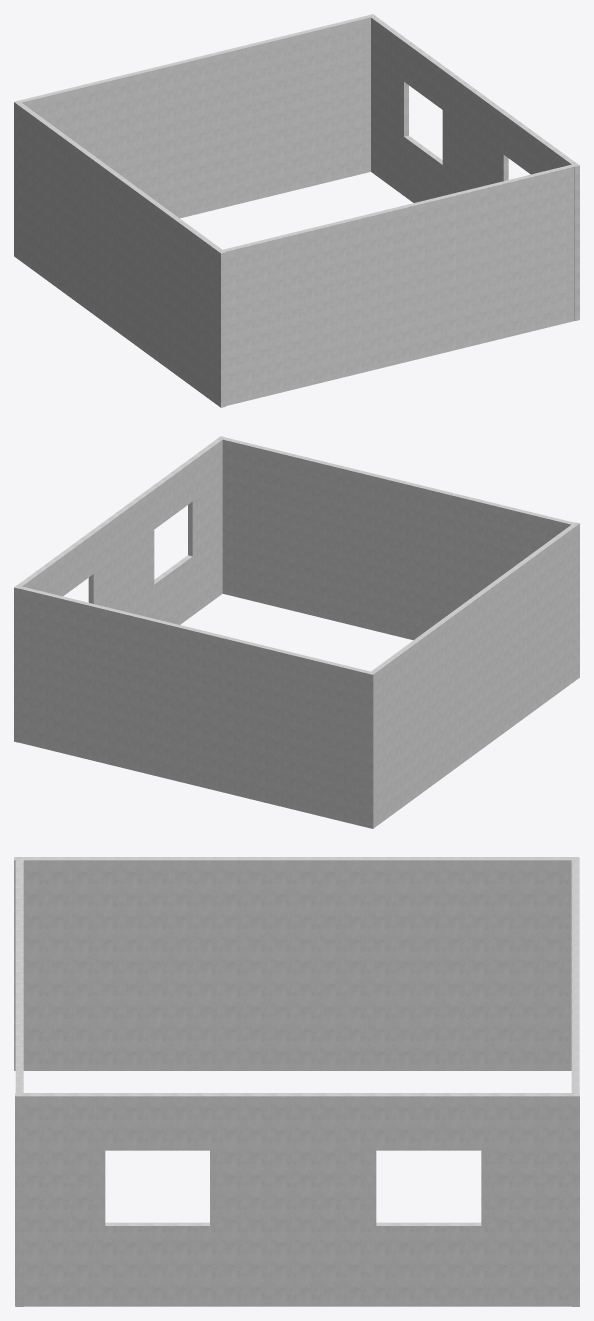
File: pared.obj
3 views of the same model, one above another, from view 1: azimuth 30°, elevation 25°; view 2: azimuth 150°, elevation 25°; view 3: azimuth 270°, elevation 25° (orthographic). The views are drawn at different scales.
Visible parts, largest first — view 1: pared; view 2: pared; view 3: pared.
Part boxes in pixels (x1,y1,x2,y2): pared: [14, 14, 579, 407]; pared: [14, 436, 579, 828]; pared: [14, 857, 579, 1306].
Bounding box in the file's own units: 6728 × 2761 × 6727.
